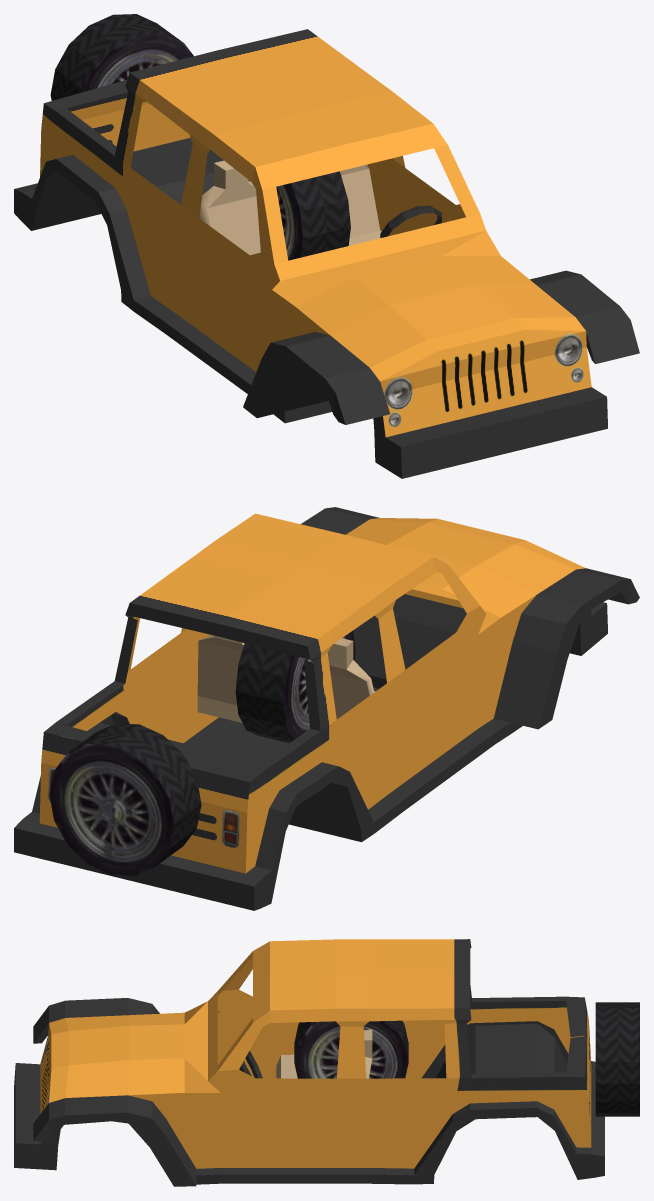
The model's file is jeep orange.glb.
3 renders of one model, top to bottom at view 1: azimuth 30°, elevation 25°; view 2: azimuth 150°, elevation 25°; view 3: azimuth 270°, elevation 25°, orthographic. The views are drawn at different scales.
Visible parts, largest first — view 1: body, wheel; view 2: body, wheel; view 3: body, wheel.
Part boxes in pixels (bbox=[...]): body: bbox=[14, 14, 639, 478]; wheel: bbox=[248, 171, 350, 260]; body: bbox=[14, 507, 639, 910]; wheel: bbox=[235, 630, 355, 743]; body: bbox=[14, 939, 639, 1186]; wheel: bbox=[294, 1020, 408, 1078].
Bounding box in the file's own units: 2.04 × 1.36 × 4.67.
Materials: 1 (1 with a texture image).
